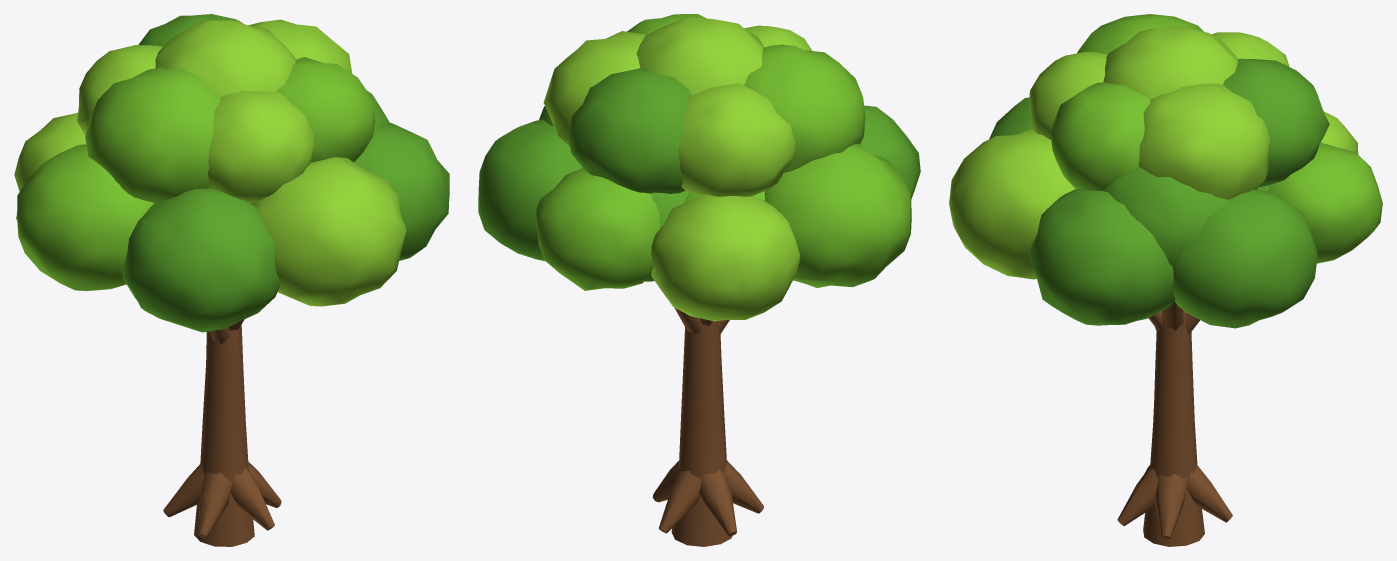
Rendered from leafy_tree.glb.
The picture shows the model from 3 angles, left to right: view 1: azimuth 30°, elevation 25°; view 2: azimuth 150°, elevation 25°; view 3: azimuth 270°, elevation 25°; orthographic projection.
Parts seen in each view (by area): view 1: leafy_tree; view 2: leafy_tree; view 3: leafy_tree.
Part boxes in pixels (x1,y1,x2,y2): leafy_tree: [14, 14, 449, 546]; leafy_tree: [478, 14, 920, 546]; leafy_tree: [949, 14, 1382, 546].
Size of the model in its own units: 7.13 by 8.87 by 6.98.
